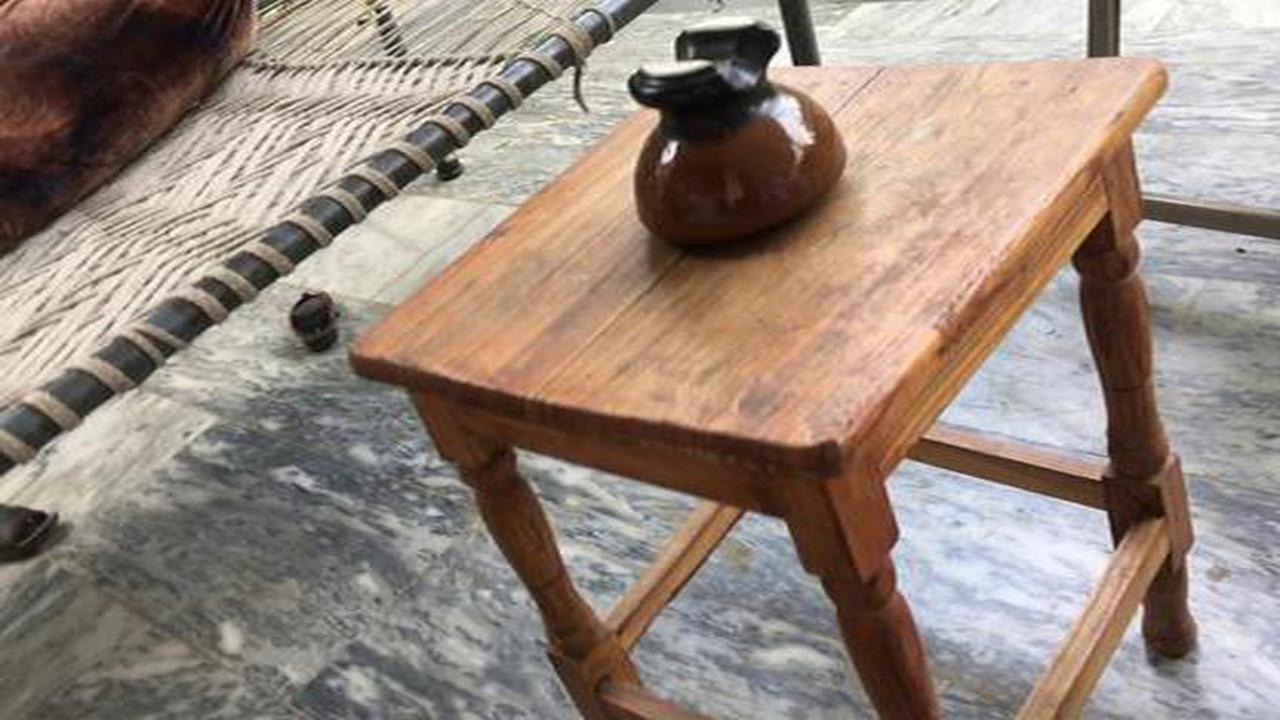insulator_pin: (610, 7, 859, 267)
